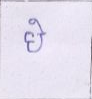e_matra: (29, 18, 48, 32)
